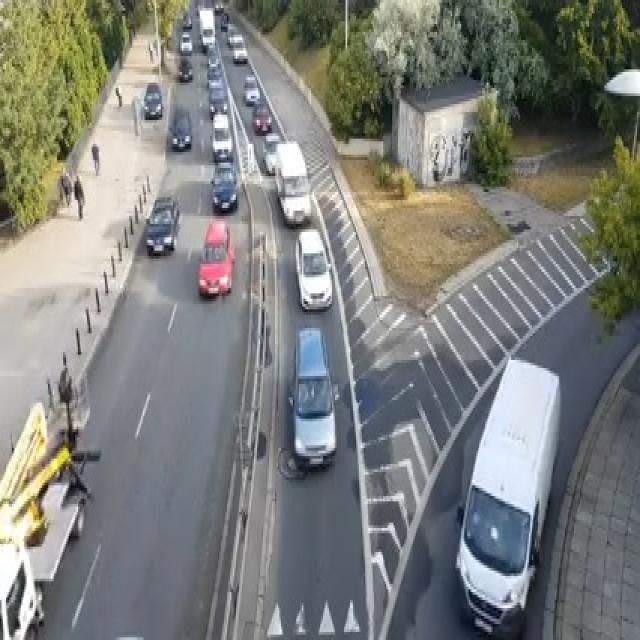bus: (454, 352, 560, 637)
car: (287, 326, 336, 470), (0, 536, 44, 637), (274, 138, 312, 226), (293, 227, 332, 309), (197, 219, 234, 296), (144, 195, 180, 256), (210, 160, 238, 211), (210, 112, 233, 160), (170, 107, 191, 149), (208, 78, 228, 118), (262, 131, 280, 173), (143, 83, 162, 117), (252, 102, 272, 134), (242, 72, 260, 104), (178, 56, 192, 80), (179, 32, 192, 53), (233, 40, 246, 61), (182, 11, 192, 29), (220, 11, 228, 29), (213, 0, 222, 13)
